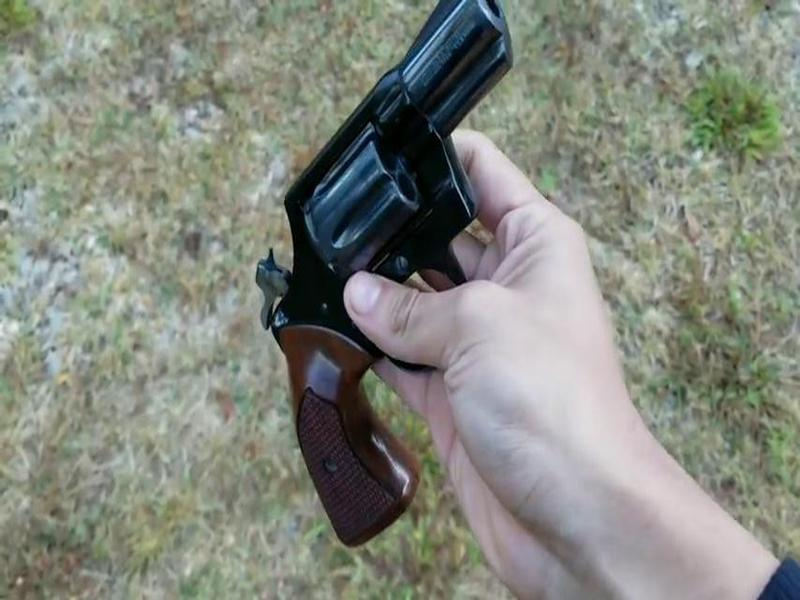Revolver: (256, 10, 521, 544)
